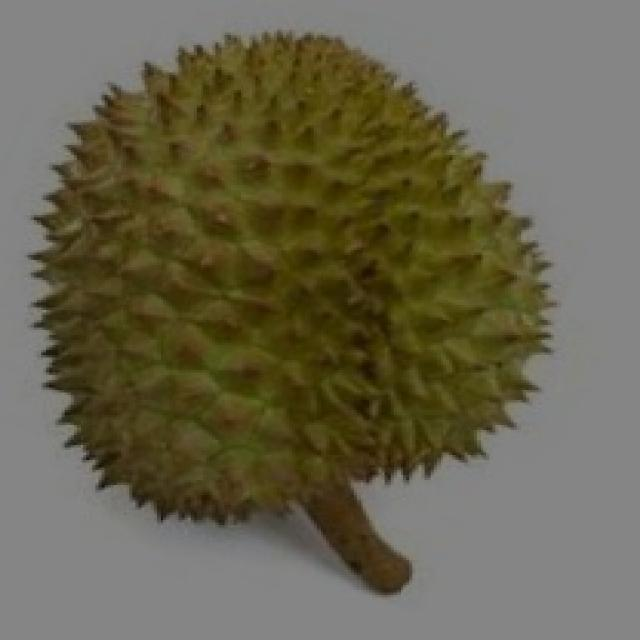fruit: (3, 215, 409, 587)
